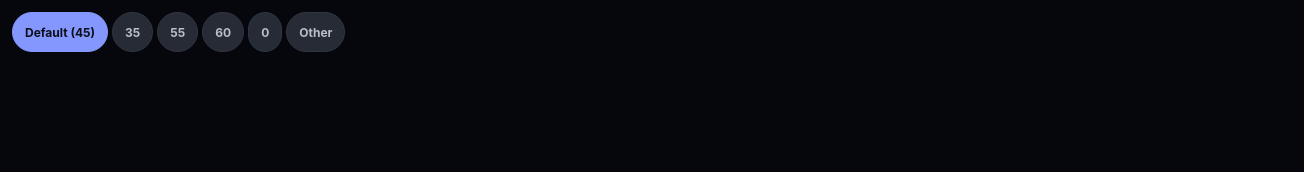
BarWeightPicker › "Other" reveals number input
The width and height of the screenshot is (1304, 172).
Click the button "Other": (316,32) [286,12,345,52]
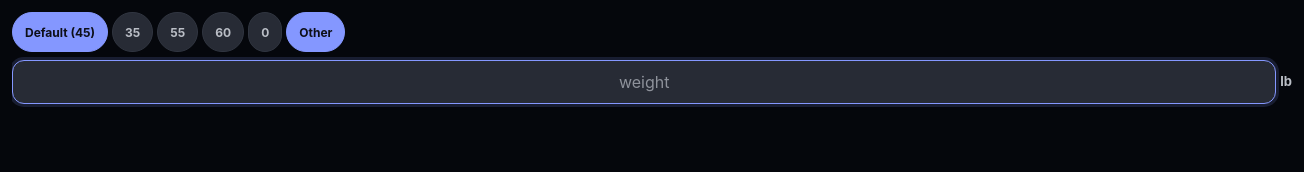
Expected: the number field is shown, [12,60,1276,104]
